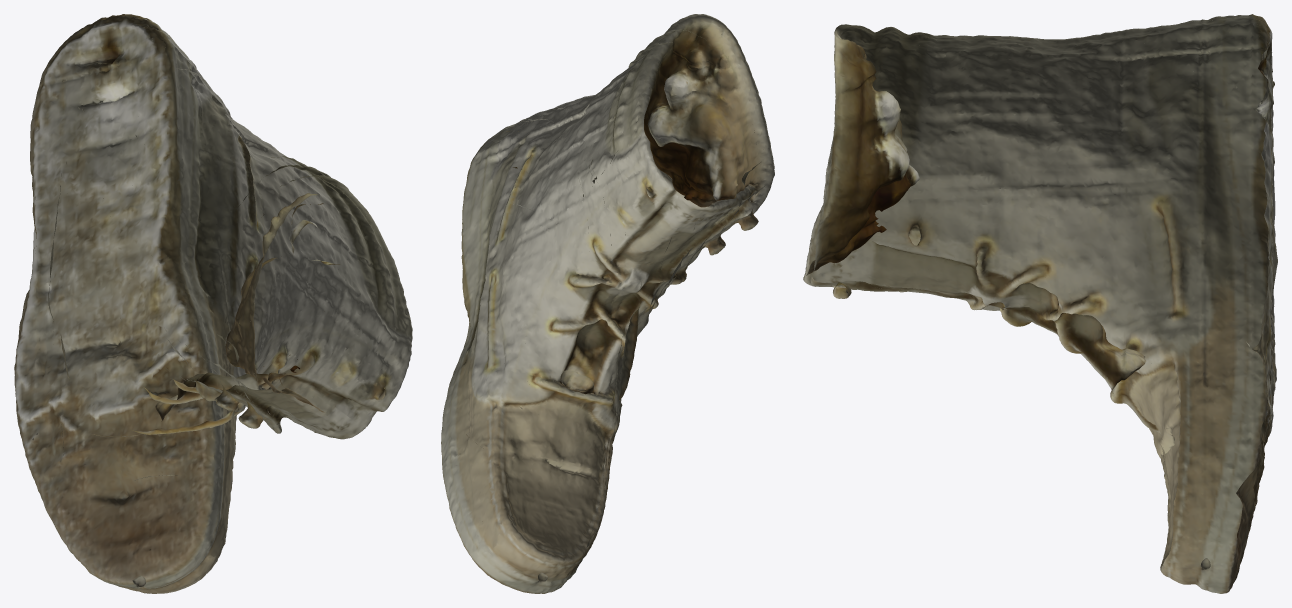
Rendered from shoe1.glb.
The picture shows the model from 3 angles, left to right: view 1: azimuth 30°, elevation 25°; view 2: azimuth 150°, elevation 25°; view 3: azimuth 270°, elevation 25°; orthographic projection. The views are drawn at different scales.
Size of the model in its own units: 0.3604 by 1 by 0.7785.
